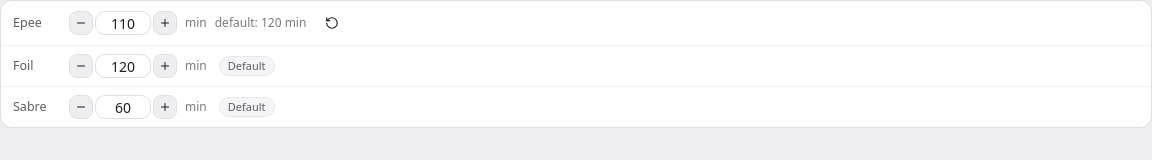
Scenario: PoolDurationSettings invalid entry rejection › rejects zero – the input redisplays the last valid value
Replace the text in the number field labelled "Epee" with "0". click: [123, 23]
box: 95,11 -> 151,35
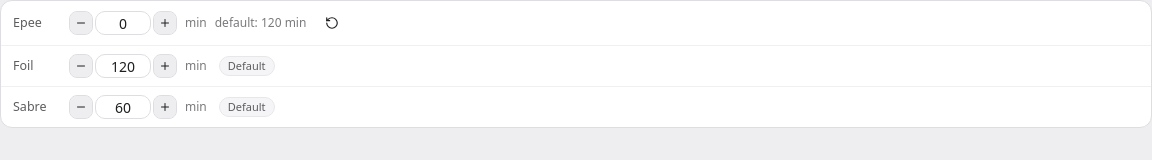
Leave the number field labelled "Epee", box 95,11 -> 151,35
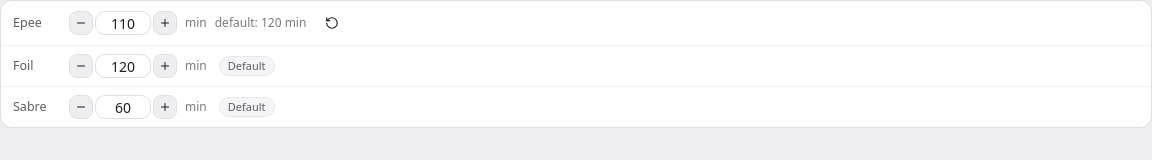
Expected: the number field labelled "Epee" holds "110", 95,11 -> 151,35
